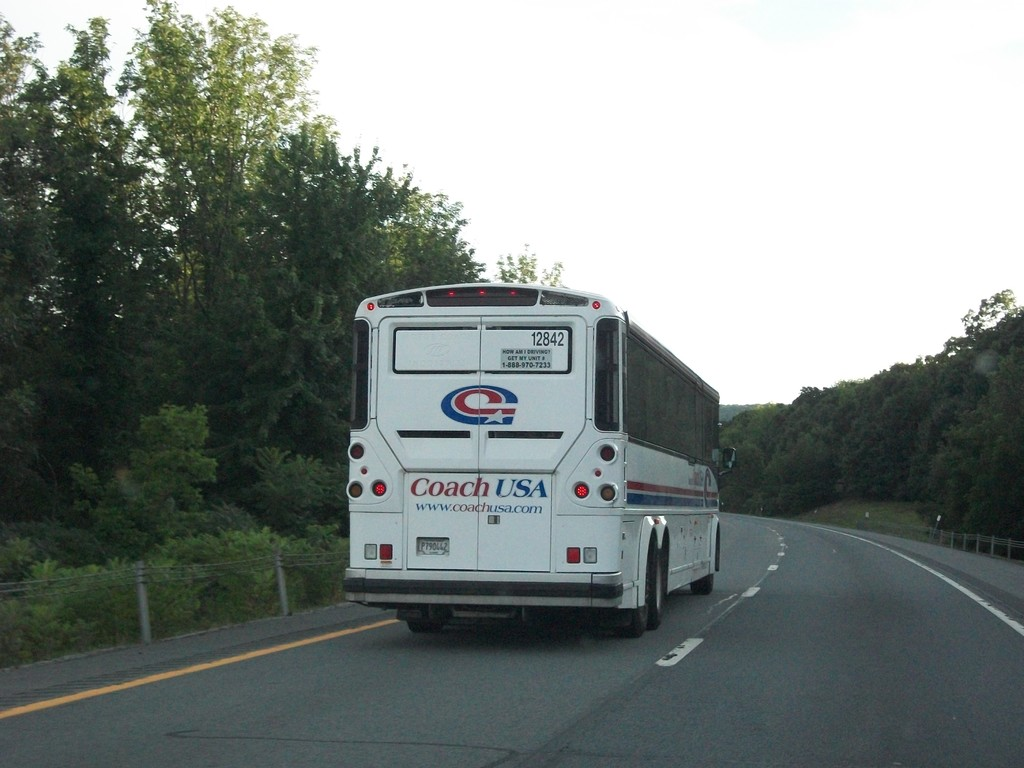Bus: (335, 282, 736, 634)
